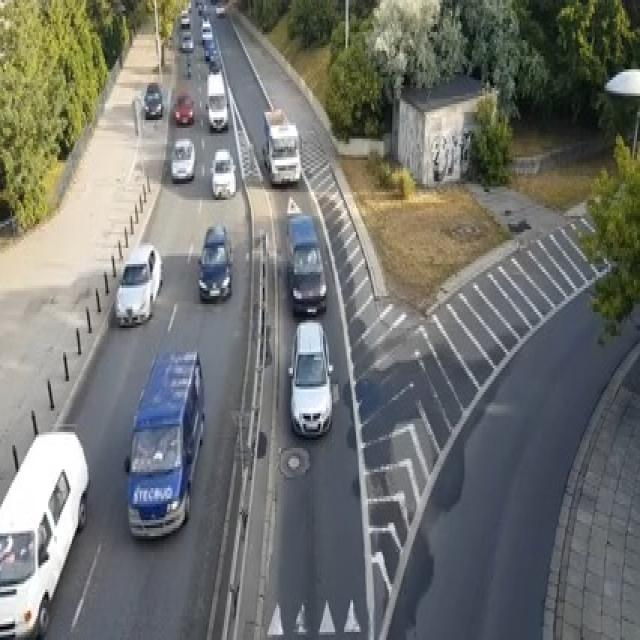car: (290, 316, 336, 447), (110, 236, 170, 334), (287, 206, 324, 314), (200, 215, 240, 293), (165, 132, 202, 184), (210, 156, 240, 200), (142, 76, 166, 127), (172, 89, 195, 129), (204, 33, 215, 62), (184, 27, 193, 47)
truck: (0, 421, 93, 640), (131, 340, 211, 544), (266, 98, 299, 192), (203, 70, 228, 134)
